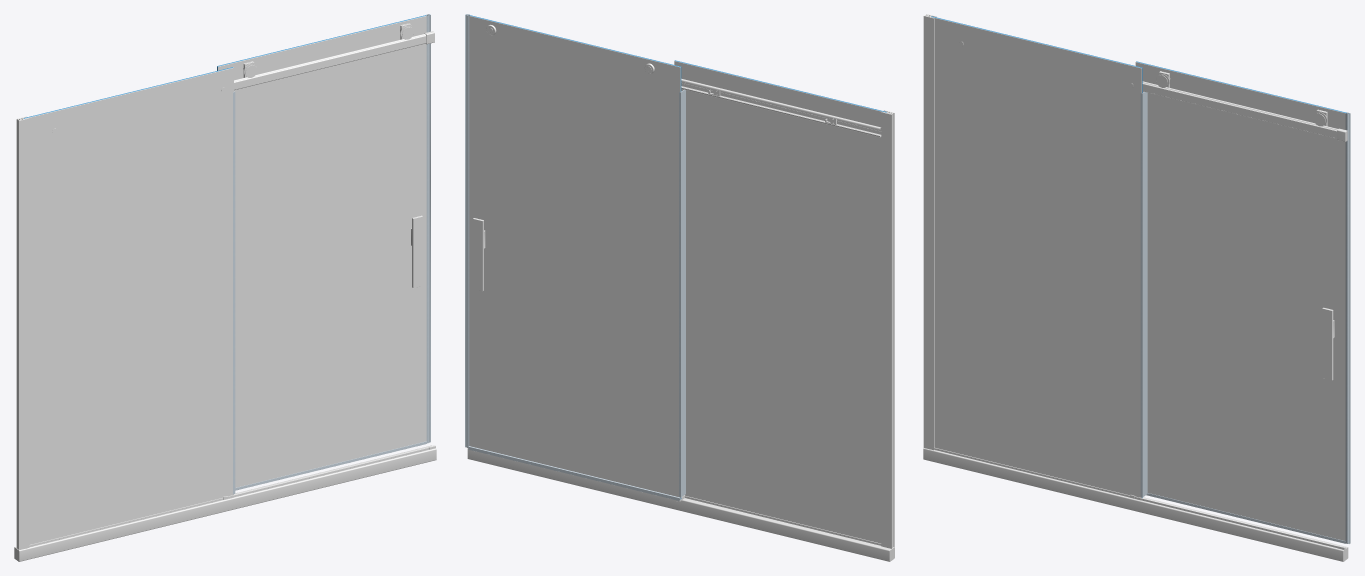
File: allen-roth-davidson-frameless.glb
The picture shows the model from 3 angles, left to right: view 1: azimuth 30°, elevation 25°; view 2: azimuth 150°, elevation 25°; view 3: azimuth 330°, elevation 25°; orthographic projection.
Parts seen in each view (by area): view 1: Glass_01, Glass, Main, Soft_rubber; view 2: Glass, Glass_01, Main, Soft_rubber; view 3: Glass_01, Glass, Main, Soft_rubber.
Part boxes in pixels (x1=…): Glass_01: x1=23, y1=67, x2=233, y2=544; Glass: x1=217, y1=15, x2=426, y2=487; Main: x1=14, y1=23, x2=436, y2=561; Soft_rubber: x1=233, y1=14, x2=430, y2=494; Glass: x1=469, y1=15, x2=681, y2=499; Glass_01: x1=674, y1=60, x2=886, y2=543; Main: x1=467, y1=21, x2=894, y2=561; Soft_rubber: x1=465, y1=14, x2=685, y2=500; Glass_01: x1=931, y1=16, x2=1142, y2=498; Glass: x1=1135, y1=61, x2=1346, y2=540; Main: x1=923, y1=14, x2=1348, y2=561; Soft_rubber: x1=1140, y1=92, x2=1350, y2=543.
Size of the model in its own units: 1.49 by 1.5 by 0.0745.
Materials: 2 (2 with a texture image).
